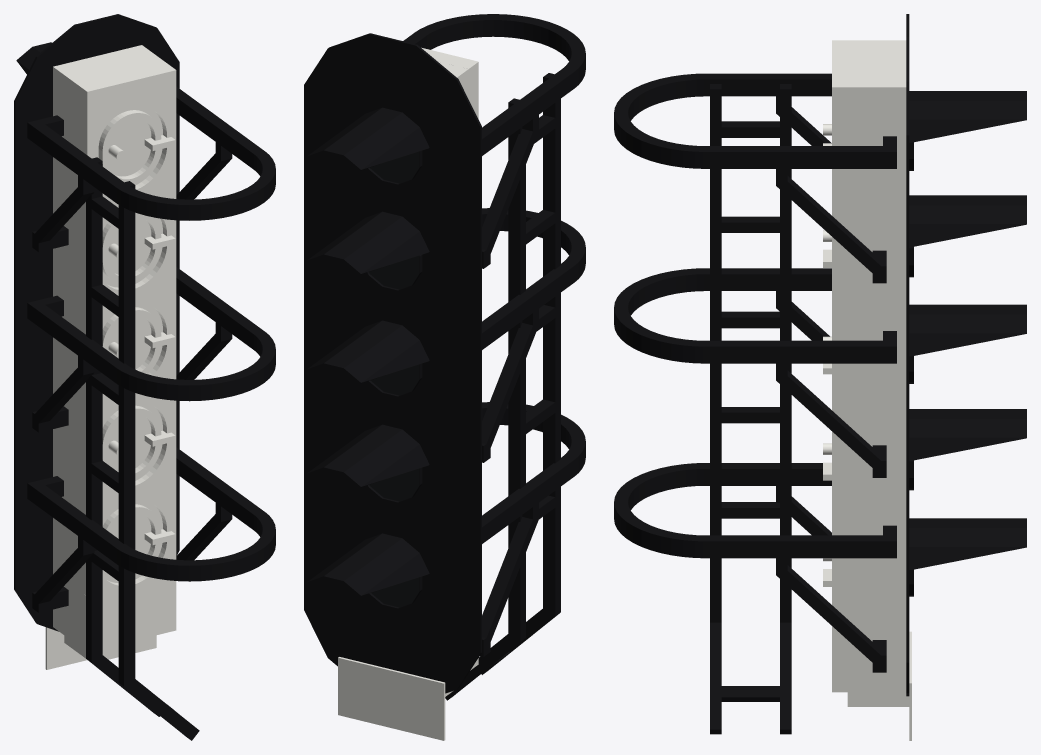
File: 5chamber_right.obj
3 renders of one model, left to right at view 1: azimuth 30°, elevation 25°; view 2: azimuth 150°, elevation 25°; view 3: azimuth 270°, elevation 25°, orthographic. The views are drawn at different scales.
Visible parts, largest first — view 1: signal_head, railing, signal_plate, ladder_top, ladder_middle, signal_id; view 2: signal_plate, railing, ladder_top, signal_id, ladder_middle, signal_head, orange_top, orange_bottom, green, red, white; view 3: railing, signal_head, signal_plate, ladder_top, ladder_middle.
Boxes of the visible parts, x1,y1,x2,y2 form: signal_head: [53, 45, 176, 659]; railing: [27, 86, 275, 612]; signal_plate: [14, 14, 179, 631]; ladder_top: [86, 157, 135, 686]; ladder_middle: [89, 655, 199, 740]; signal_id: [45, 627, 87, 669]; signal_plate: [304, 33, 481, 693]; railing: [403, 14, 585, 656]; ladder_top: [508, 73, 560, 641]; signal_id: [338, 657, 445, 740]; ladder_middle: [445, 609, 559, 700]; signal_head: [421, 47, 478, 696]; orange_top: [369, 255, 419, 289]; orange_bottom: [369, 468, 419, 501]; green: [370, 151, 419, 183]; red: [370, 364, 419, 395]; white: [371, 577, 419, 607]; railing: [614, 73, 896, 672]; signal_head: [823, 40, 909, 706]; signal_plate: [906, 14, 1026, 696]; ladder_top: [710, 84, 791, 622]; ladder_middle: [710, 622, 791, 734].
Bounding box in the file's own units: 0.61 × 2.33 × 1.23.
